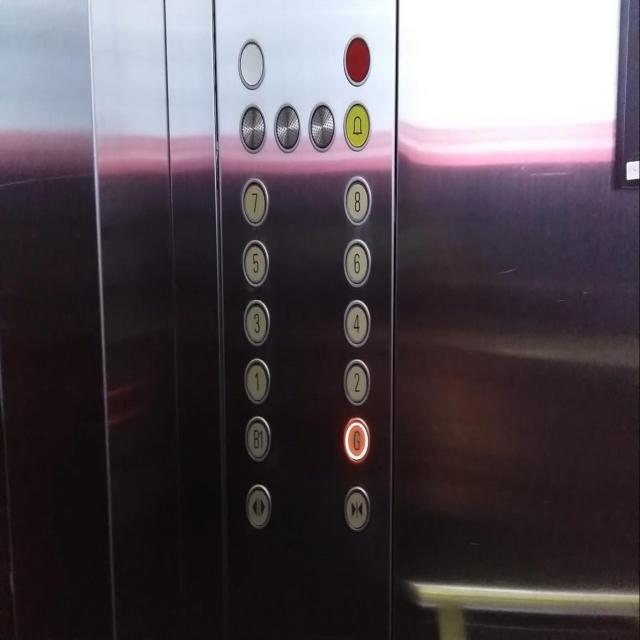1: (242, 355, 270, 406)
2: (343, 355, 370, 406)
3: (242, 296, 270, 346)
4: (342, 296, 371, 346)
5: (240, 238, 269, 287)
6: (341, 238, 371, 286)
7: (240, 177, 269, 226)
8: (342, 173, 372, 226)
B1: (244, 413, 272, 462)
G: (343, 416, 370, 462)
alarm: (343, 100, 371, 150)
close: (343, 484, 371, 532)
empty: (342, 32, 372, 88), (236, 37, 267, 89)
open: (245, 483, 272, 529)
speaker: (237, 102, 268, 154), (271, 100, 302, 152), (307, 101, 337, 153)
